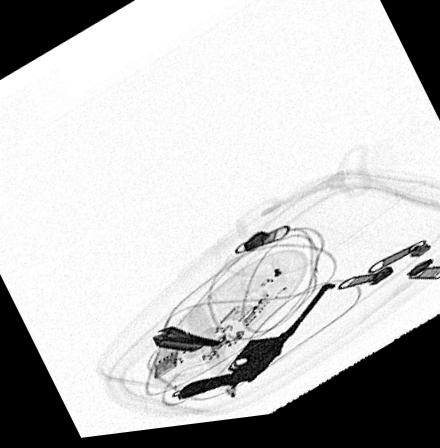Gun: (179, 291, 340, 404)
